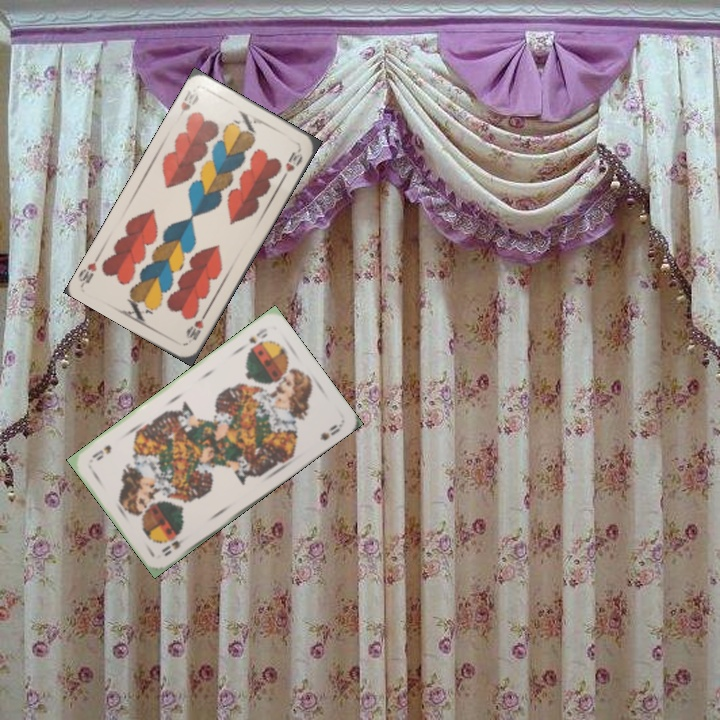H10: (182, 309, 209, 343), (175, 86, 202, 119)
SO: (157, 531, 192, 559), (237, 324, 270, 350)
